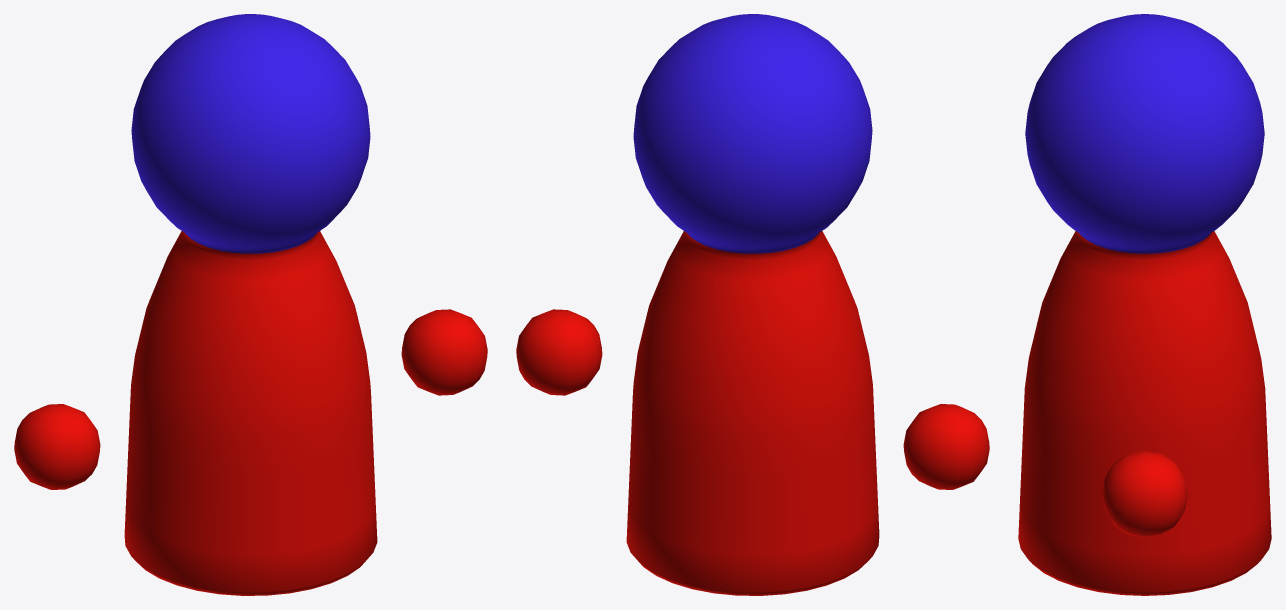
Rendered from PegglePeople_SK.fbx.
The picture shows the model from 3 angles, left to right: view 1: azimuth 30°, elevation 25°; view 2: azimuth 150°, elevation 25°; view 3: azimuth 270°, elevation 25°; orthographic projection.
Visible parts, largest first — view 1: PegglePeople_lp; view 2: PegglePeople_lp; view 3: PegglePeople_lp.
Part boxes in pixels (x1,y1,x2,y2): PegglePeople_lp: (14,14,487,595); PegglePeople_lp: (516,14,989,595); PegglePeople_lp: (1018,14,1271,595).
Size of the model in its own units: 167 by 179 by 79.31.
